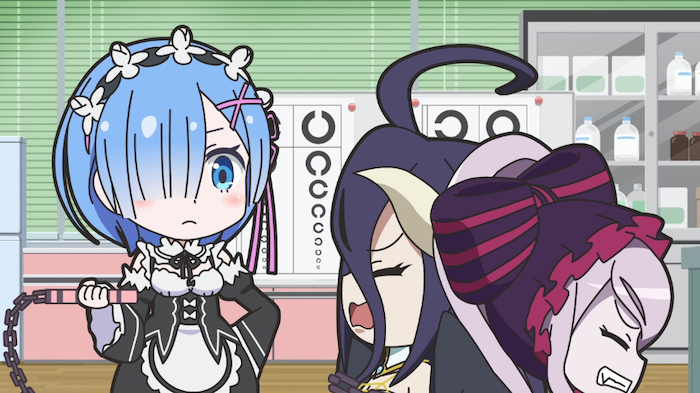rem: (51, 33, 282, 393)
